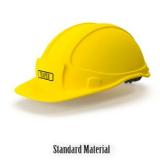Helmet: (13, 21, 152, 104)
